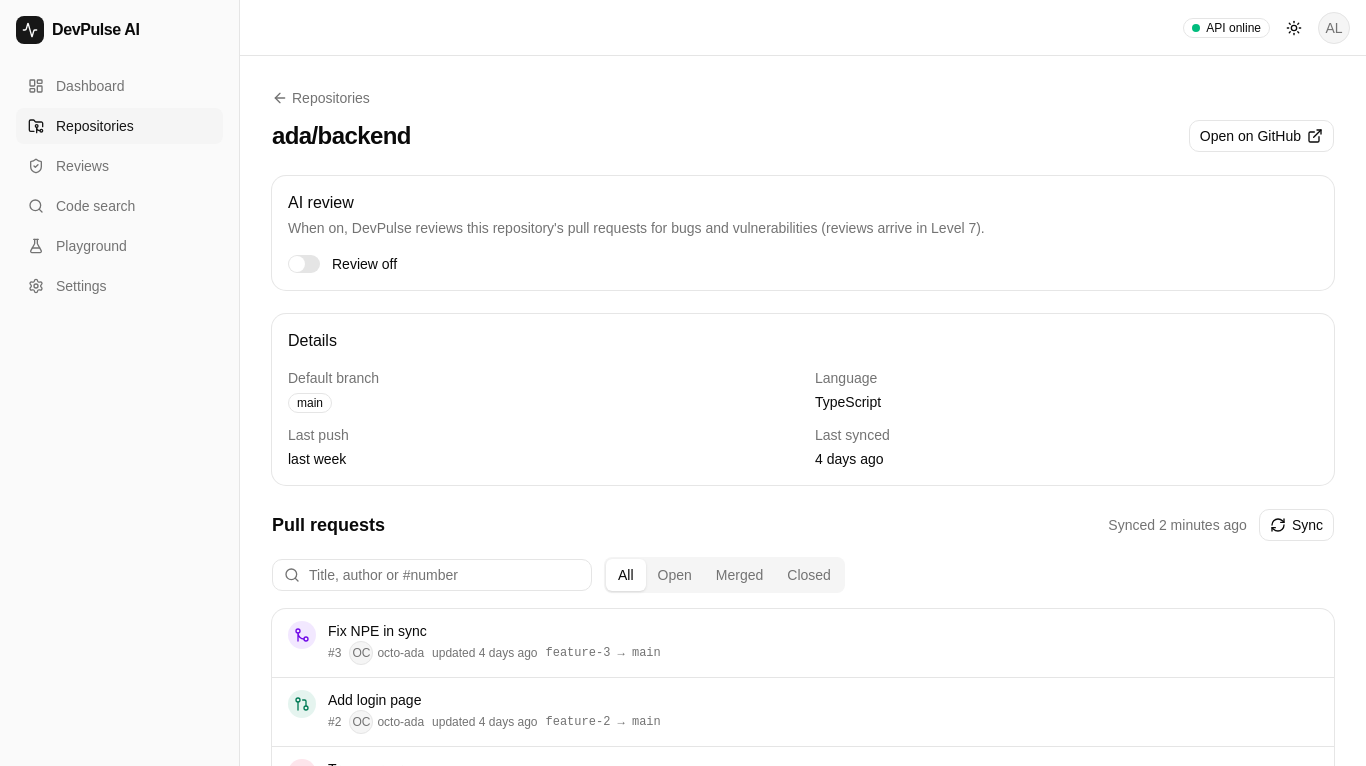
Test: Pull requests on the repository page › filters by state and searches, keeping both in the URL
Expected: the text "Synced 2 minutes ago" is shown, [1108, 515, 1247, 535]
Click the button "Merged" at (740, 575), box [704, 559, 775, 591]
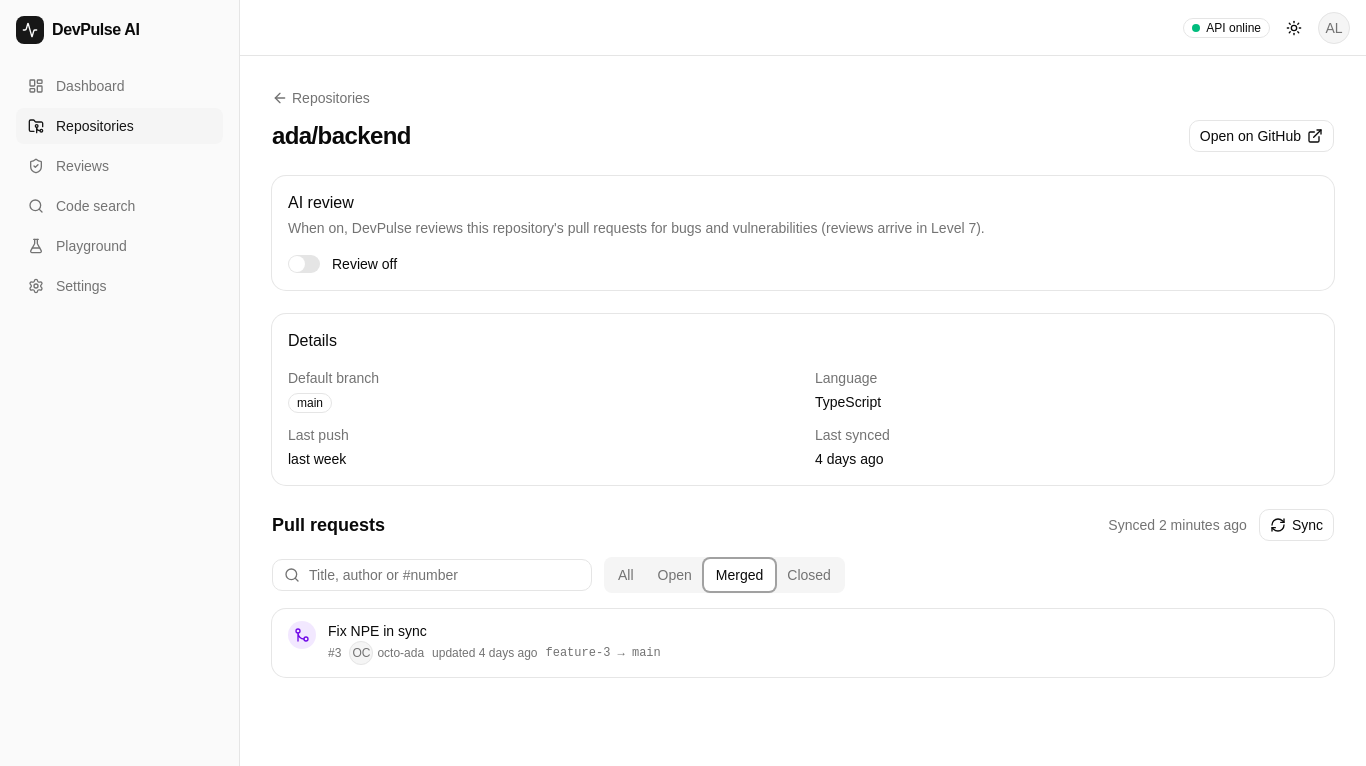
Expected: the link "Fix NPE in sync" is shown, [328, 623, 427, 639]
Now the link "Add login page" is gone
Click the button "All" at (626, 575), box [606, 559, 646, 591]
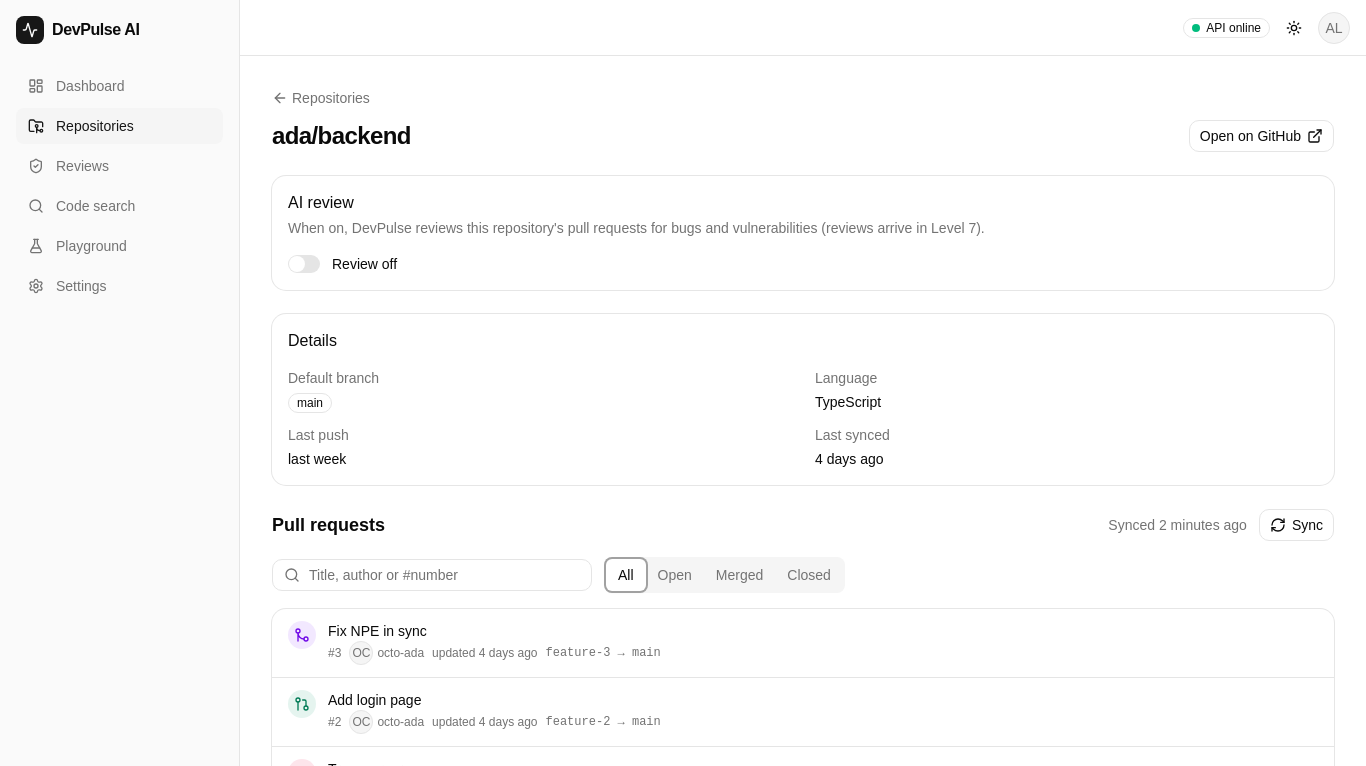
Type "#1" into the search field named "Search pull requests" at (432, 575), box [272, 559, 592, 591]
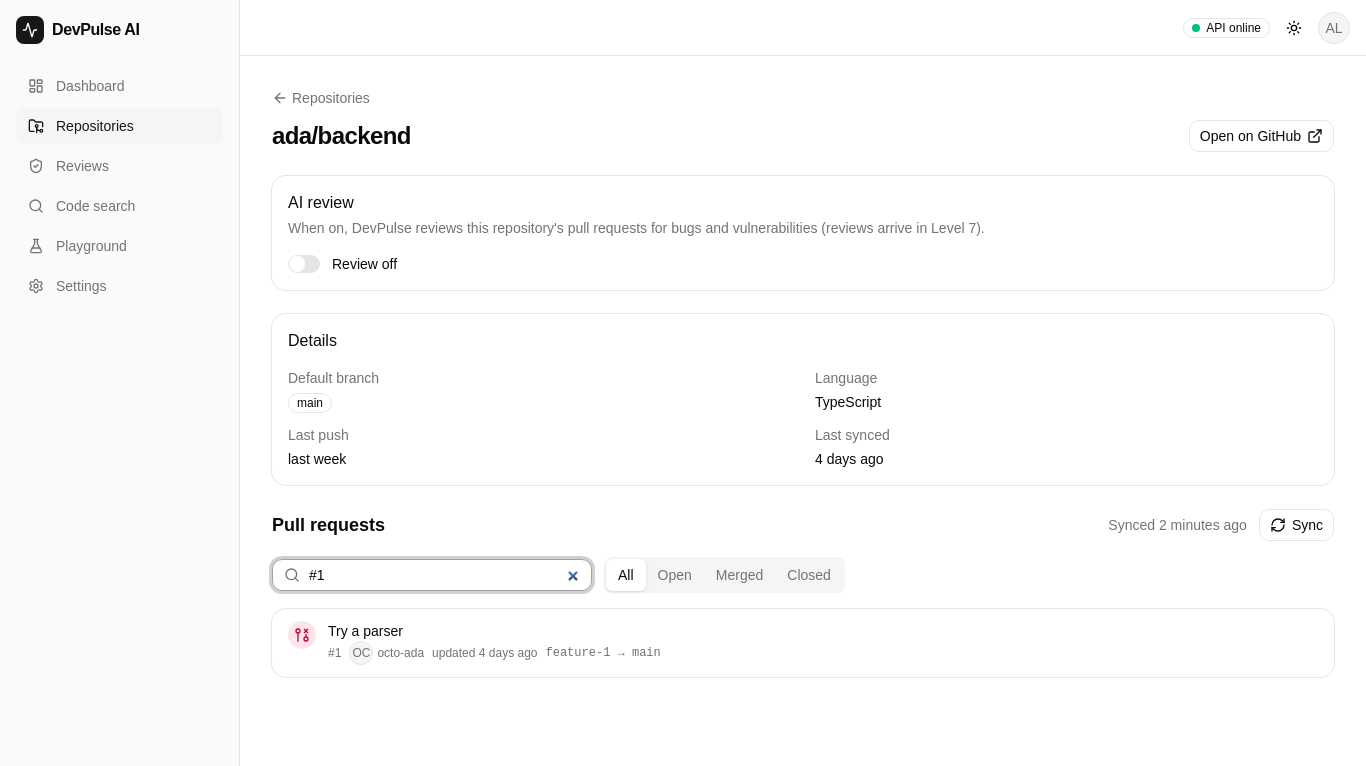
Now the link "Try a parser" is shown, box [328, 623, 403, 639]
Now the link "Fix NPE in sync" is gone
Replace the text in the search field named "Search pull requests" with "nothing" at (432, 575), box [272, 559, 592, 591]
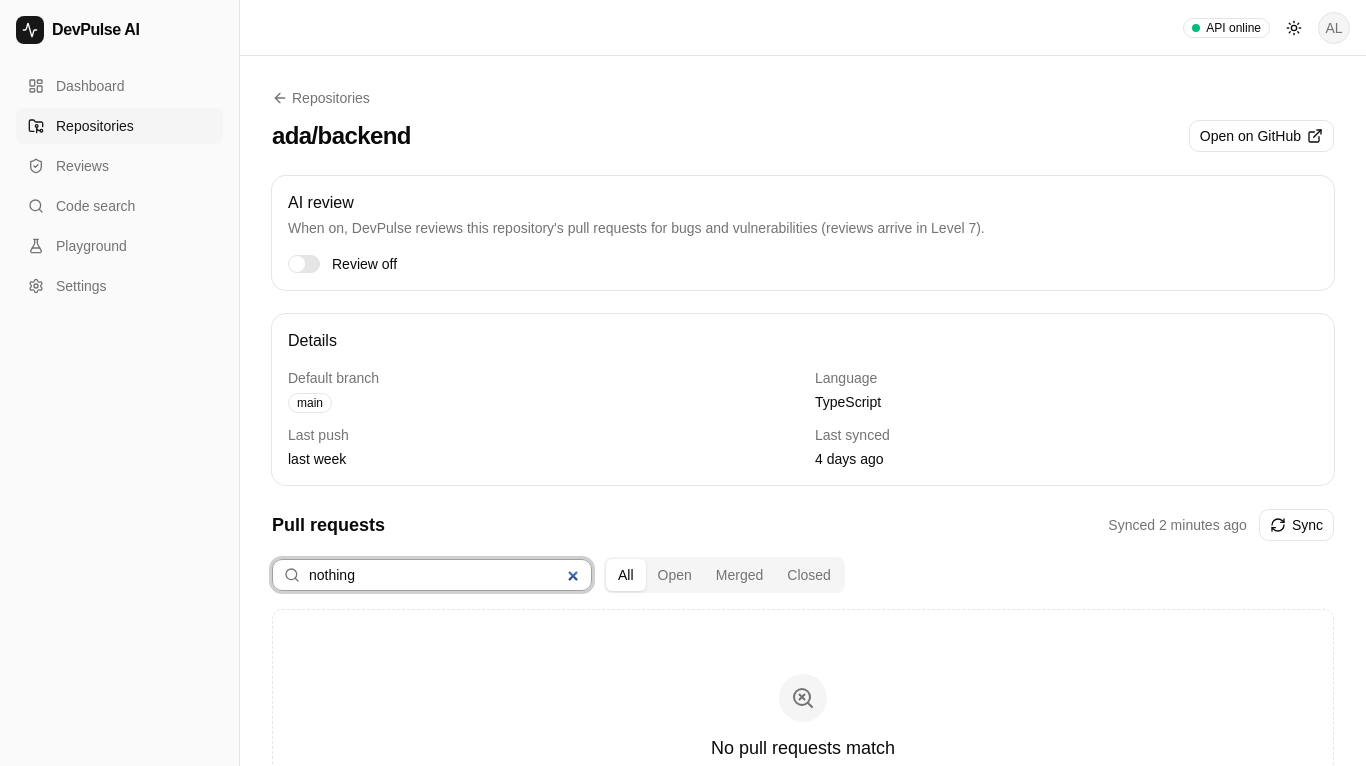
Now the heading "No pull requests match" is shown, box [711, 734, 895, 762]
